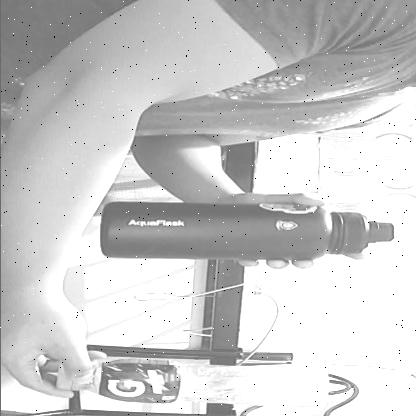Plastic Bottle: (30, 364, 340, 405)
